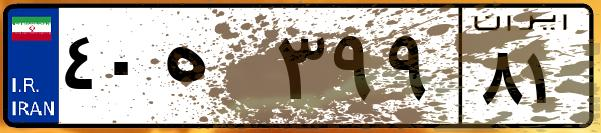0: (110, 28, 158, 98)
1: (525, 38, 570, 115)
3: (270, 28, 330, 110)
4: (57, 26, 110, 100)
8: (475, 38, 525, 113)
9: (385, 28, 445, 110), (330, 28, 385, 110)
ه: (158, 20, 270, 120)
